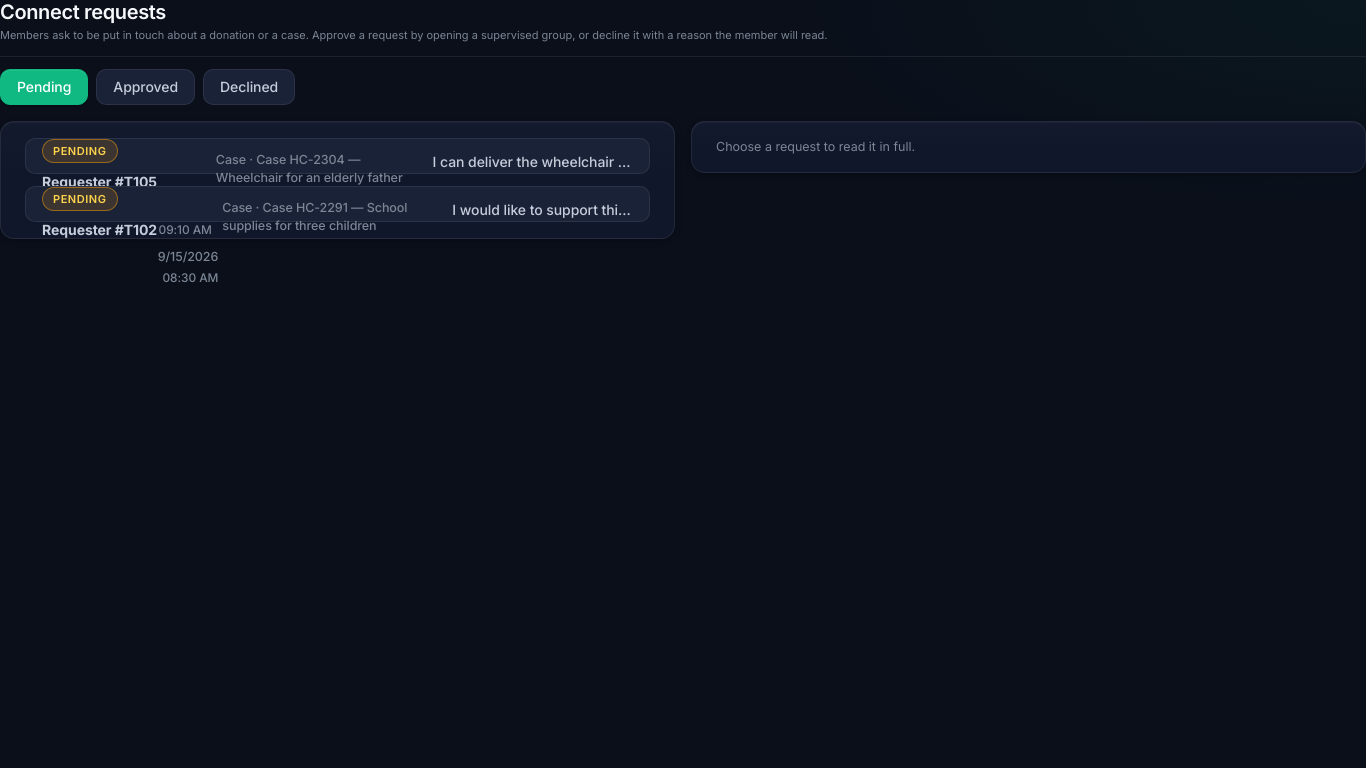
Test: ConnectRequestsPage › keeps the approved request open with Approved and its group link, without refetching it
Click the button named "I would like to support this family" at coordinates (338, 204), box [25,186,650,222]
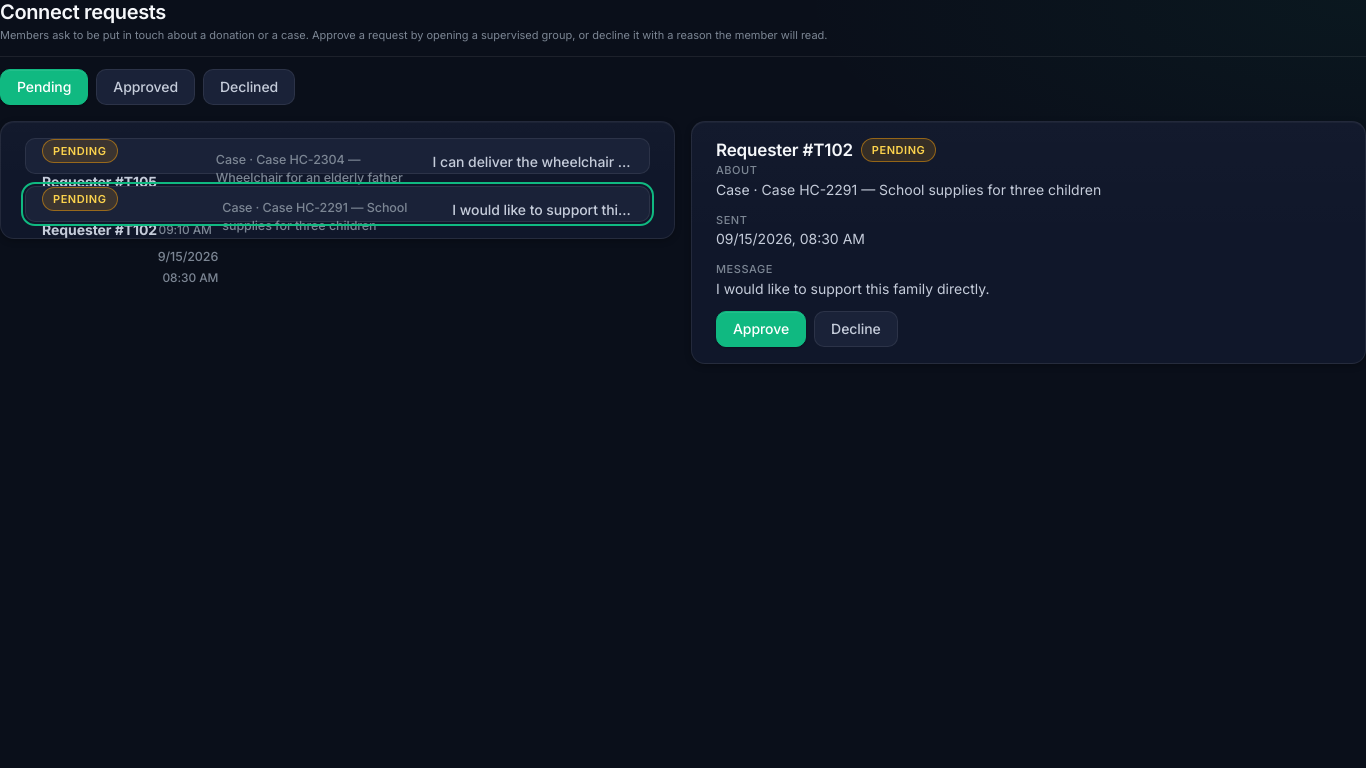
Click the button "Approve" at coordinates (761, 328), box [716,310,806,346]
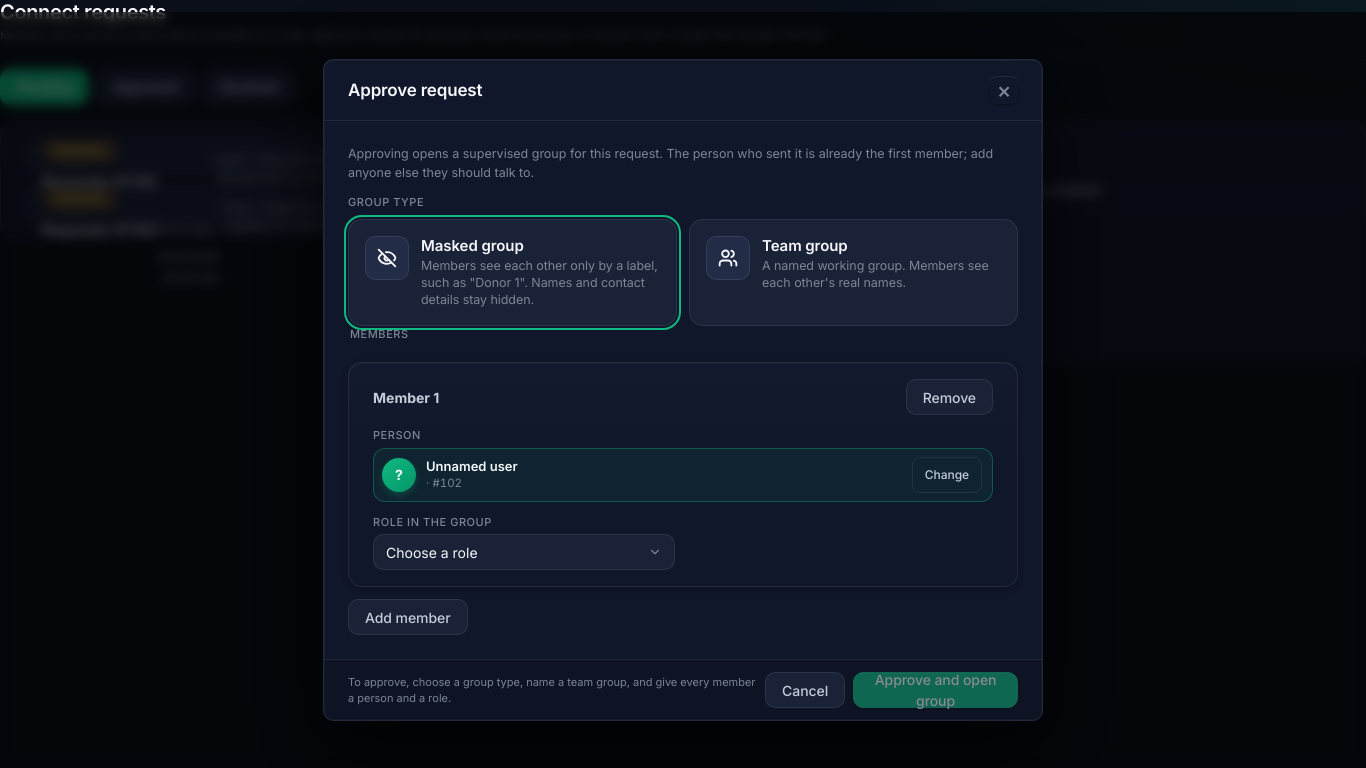
Click the radio button labelled "Masked group" at coordinates (512, 272), box [348,219,677,326]
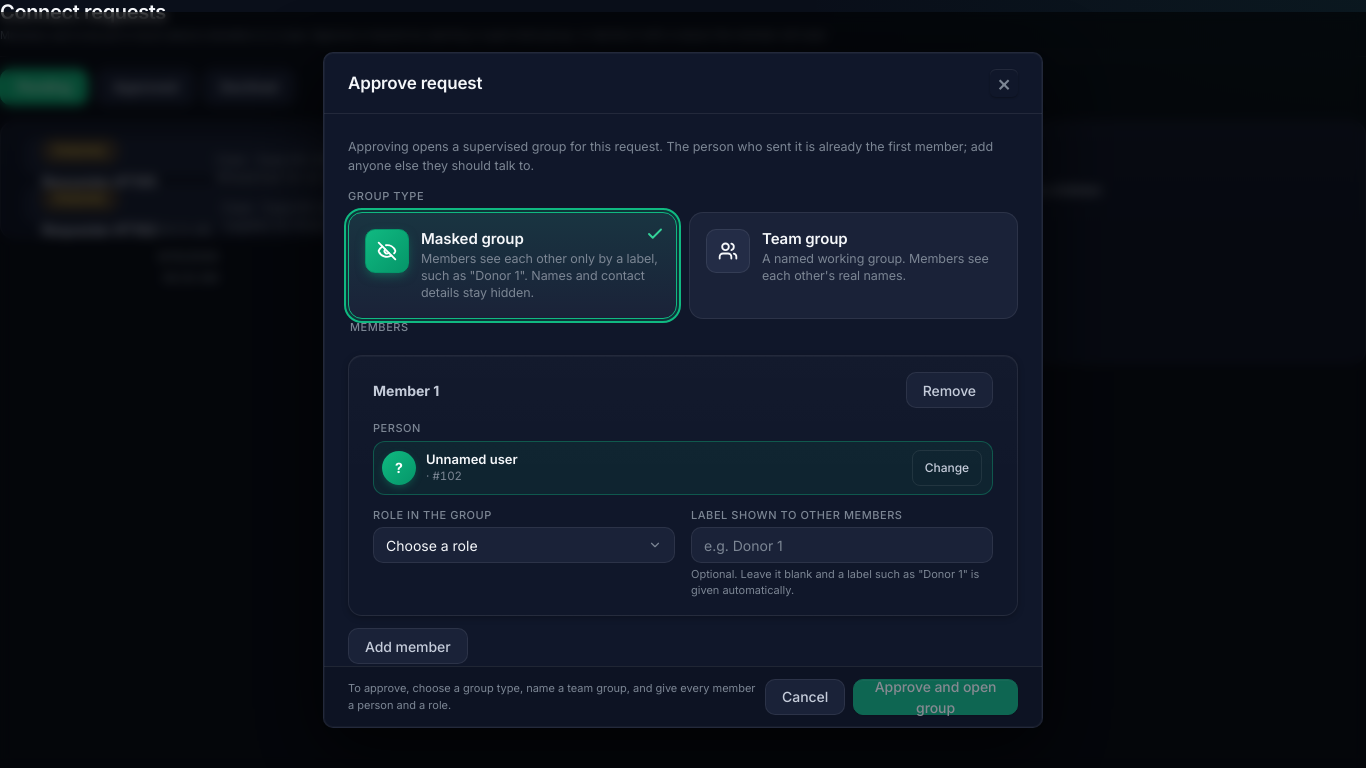
Select "Grantor" in the dropdown labelled "Role in the group" at coordinates (524, 546), box [373,528,675,564]
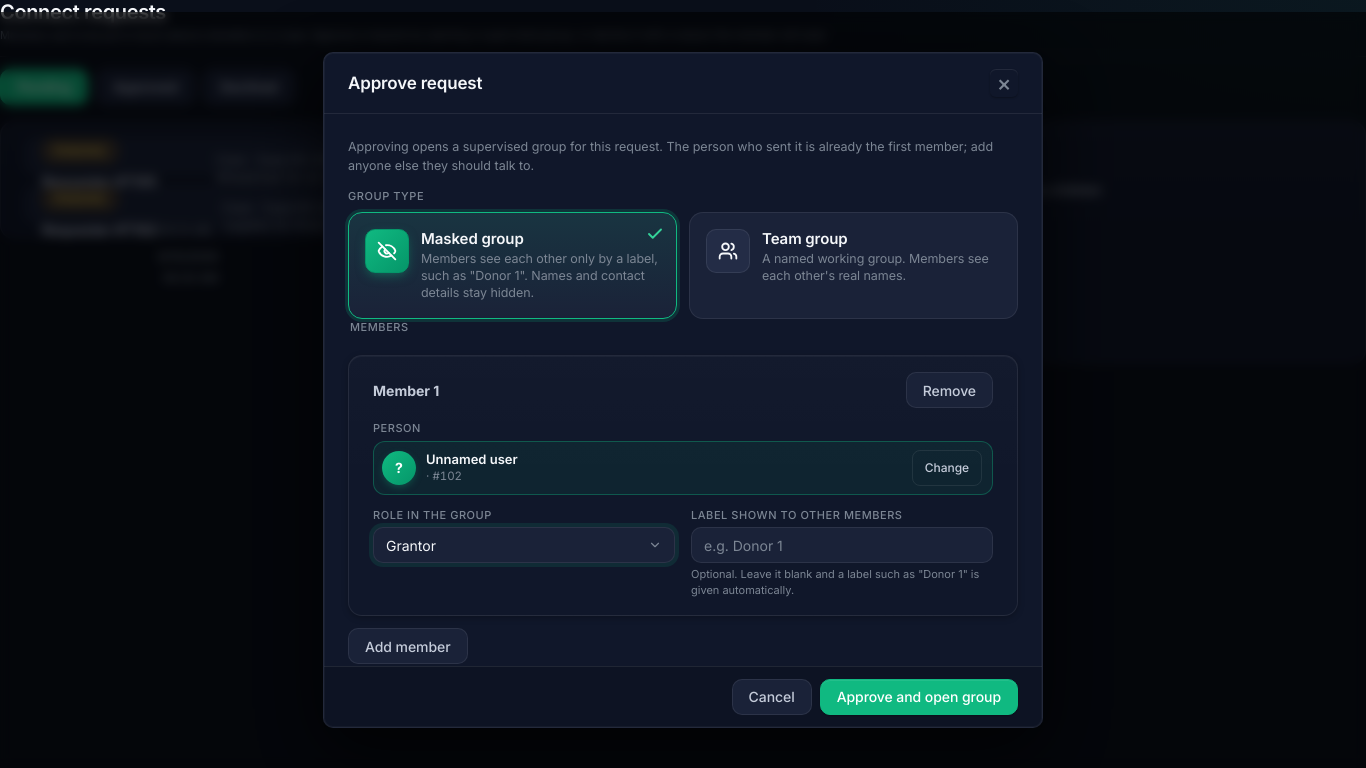
Click the button "Approve and open group" at coordinates (919, 697), box [820,679,1018,715]
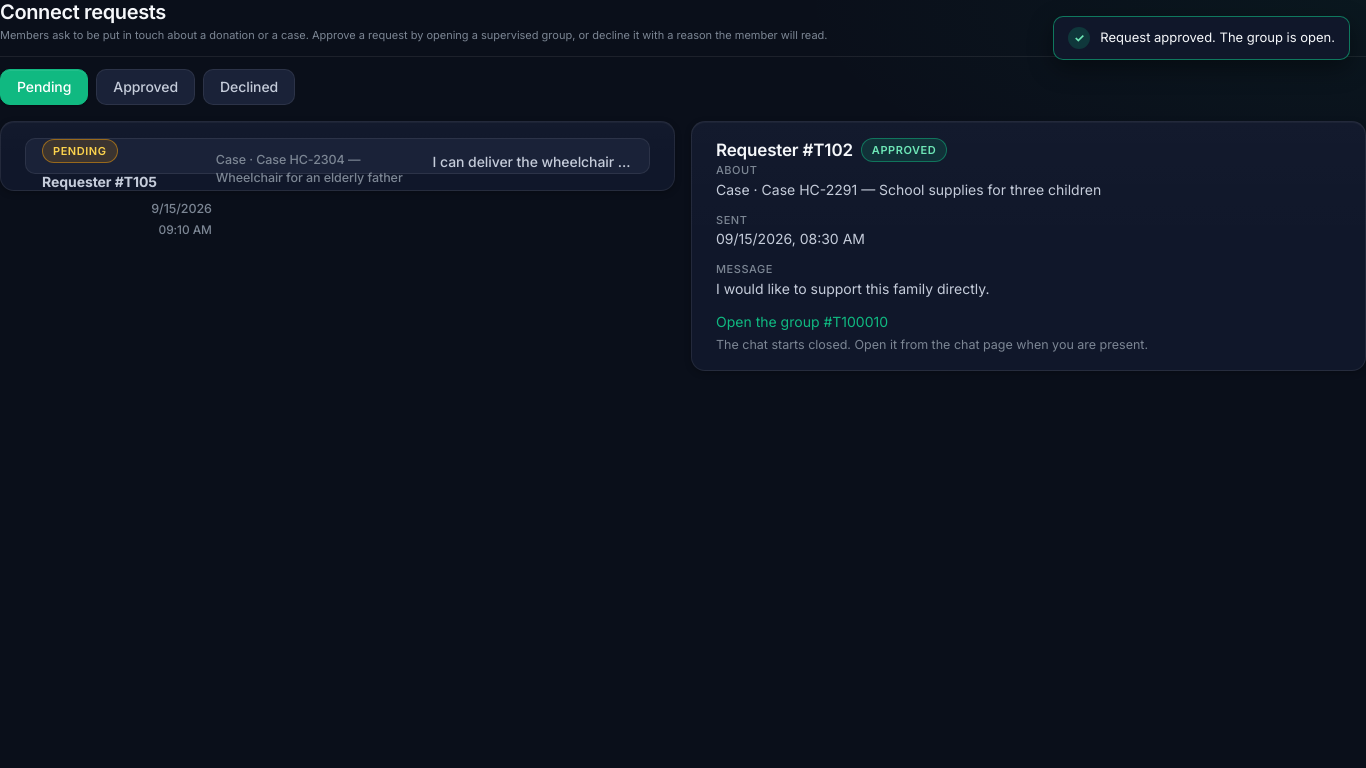
Now the text "Approved" is shown, box [861,138,947,162]
